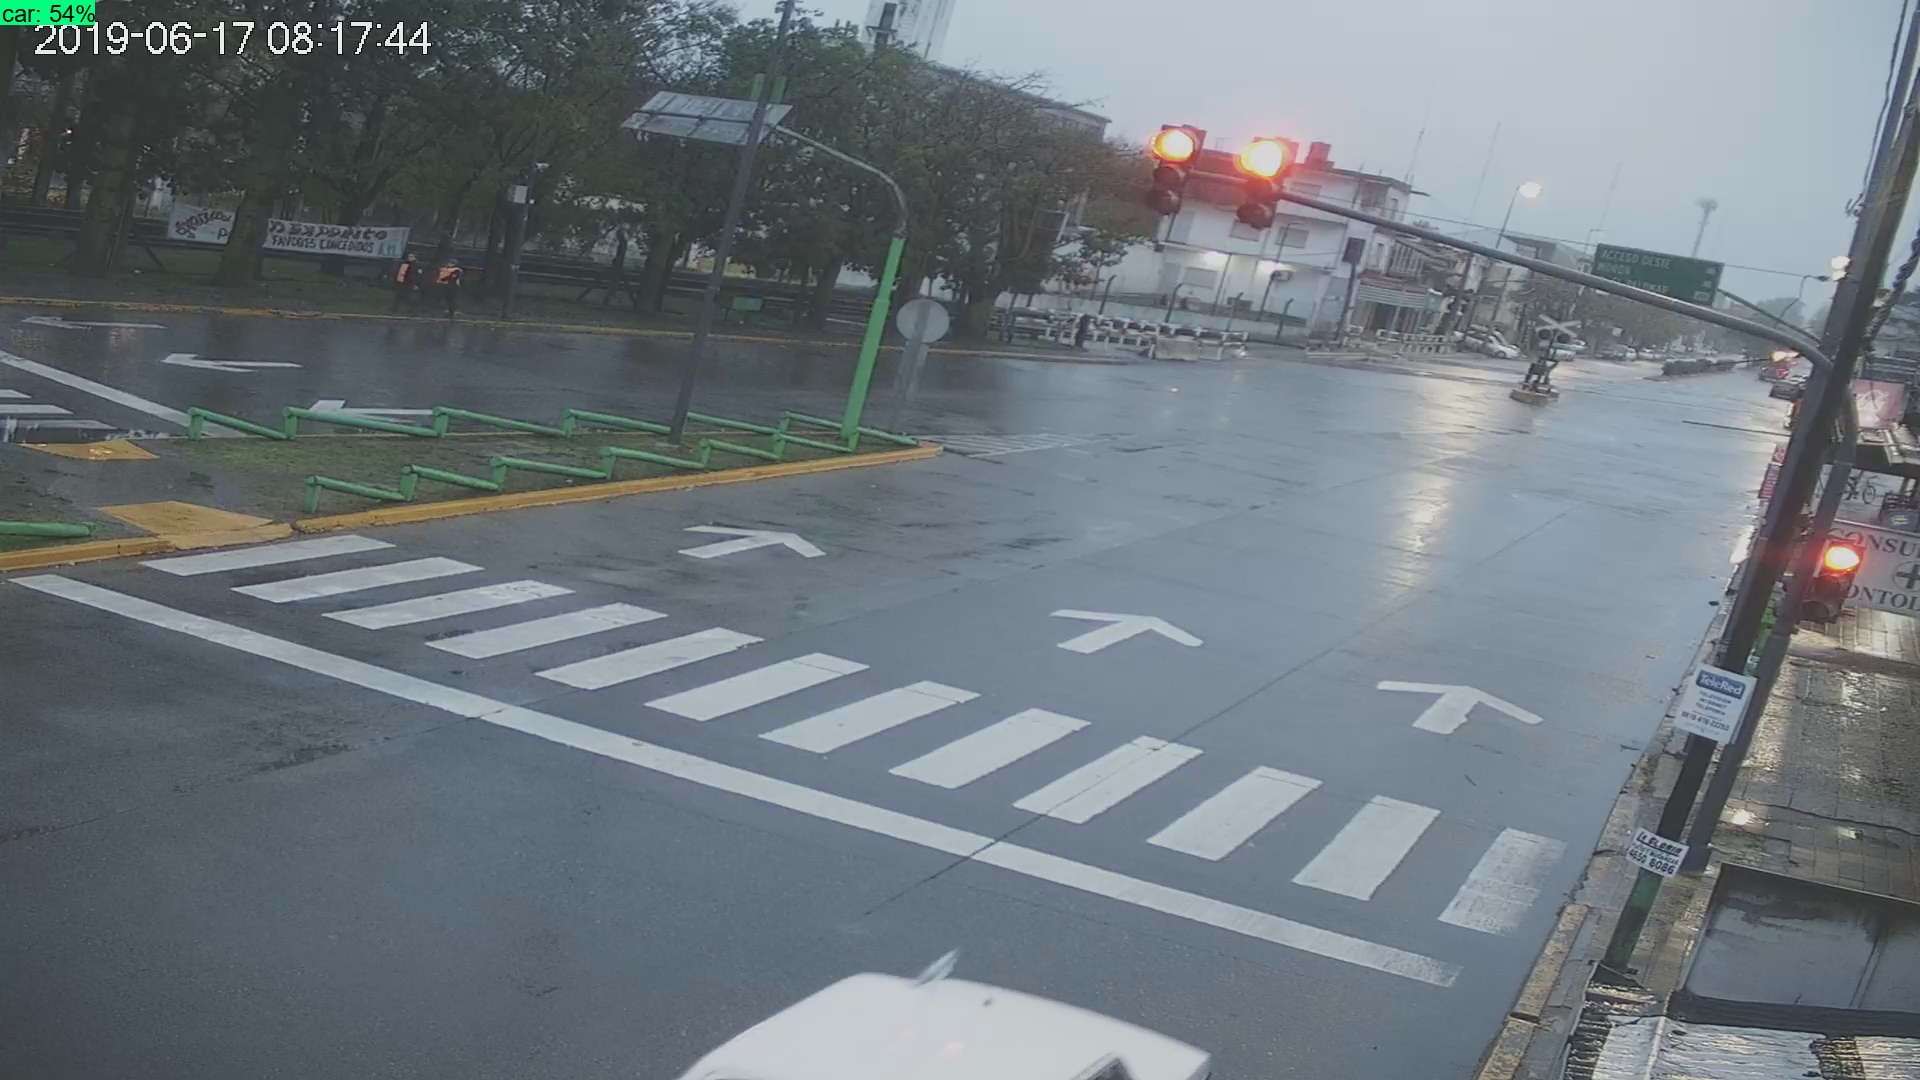car: (657, 943, 1215, 1080)
